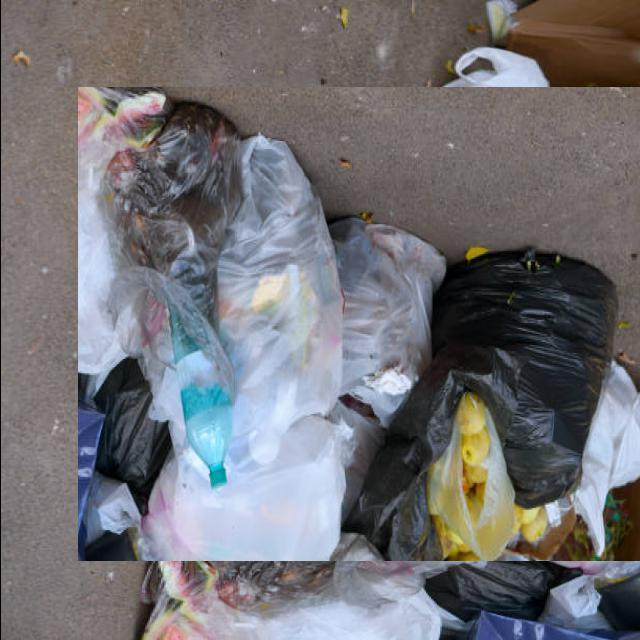Trashbag: (365, 239, 626, 549), (83, 353, 169, 495)
